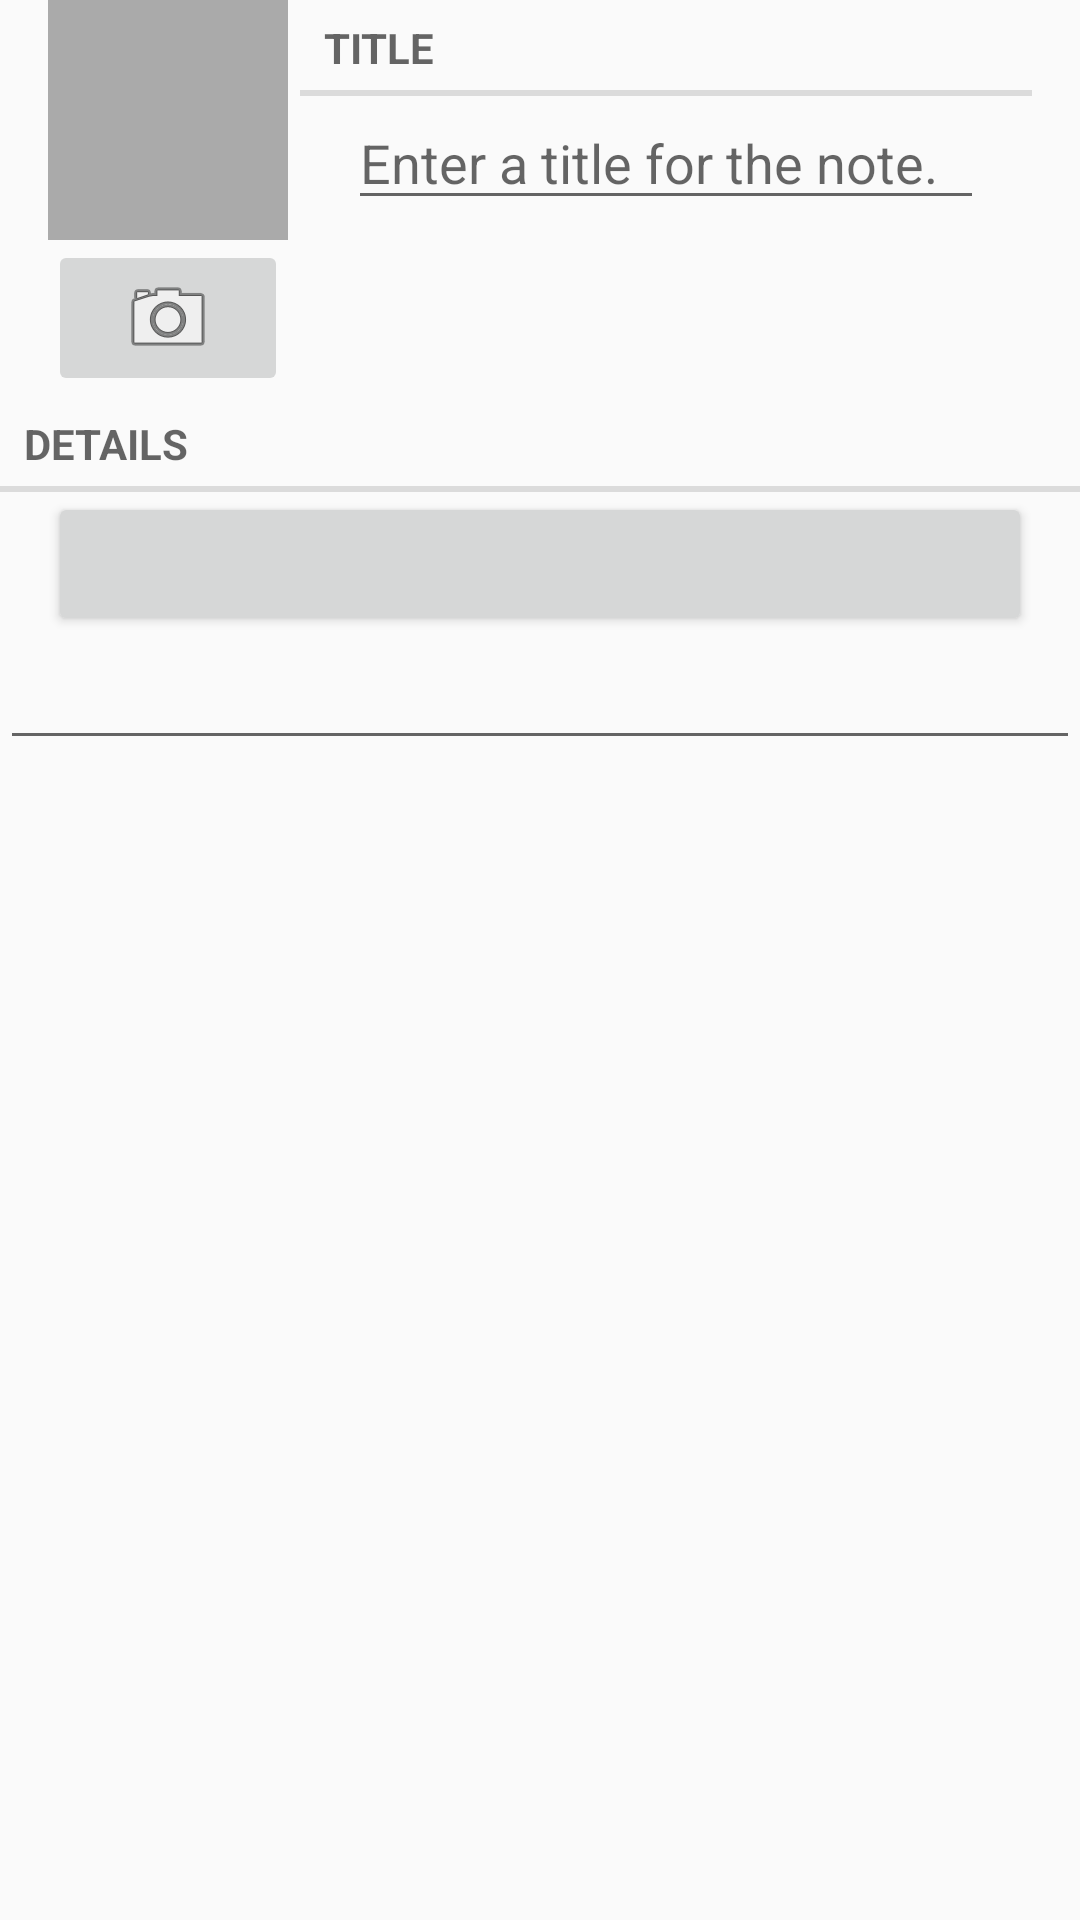

Icons on this 1080 × 1920 Android screen, each with the point to tap as [x,y]:
camera: [168,318]
